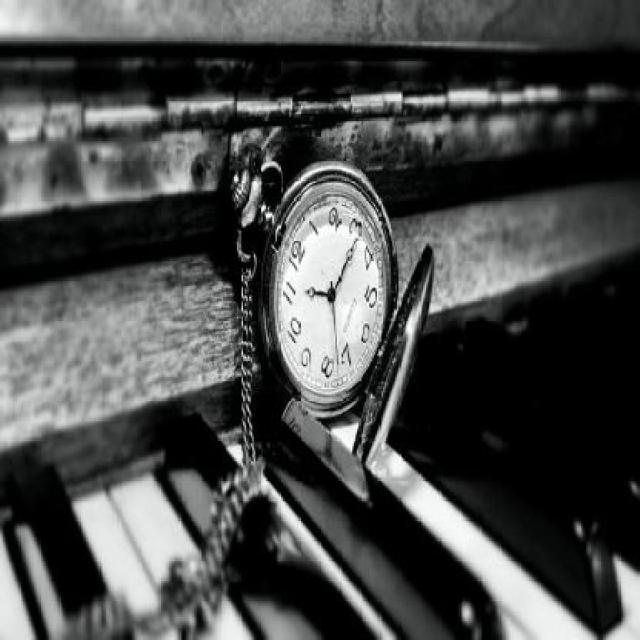clock: (272, 202, 390, 402)
